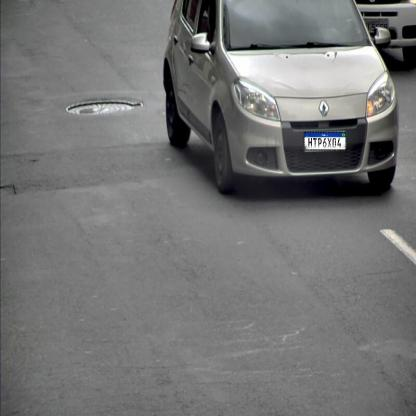PlacaM: (304, 132, 346, 150)
